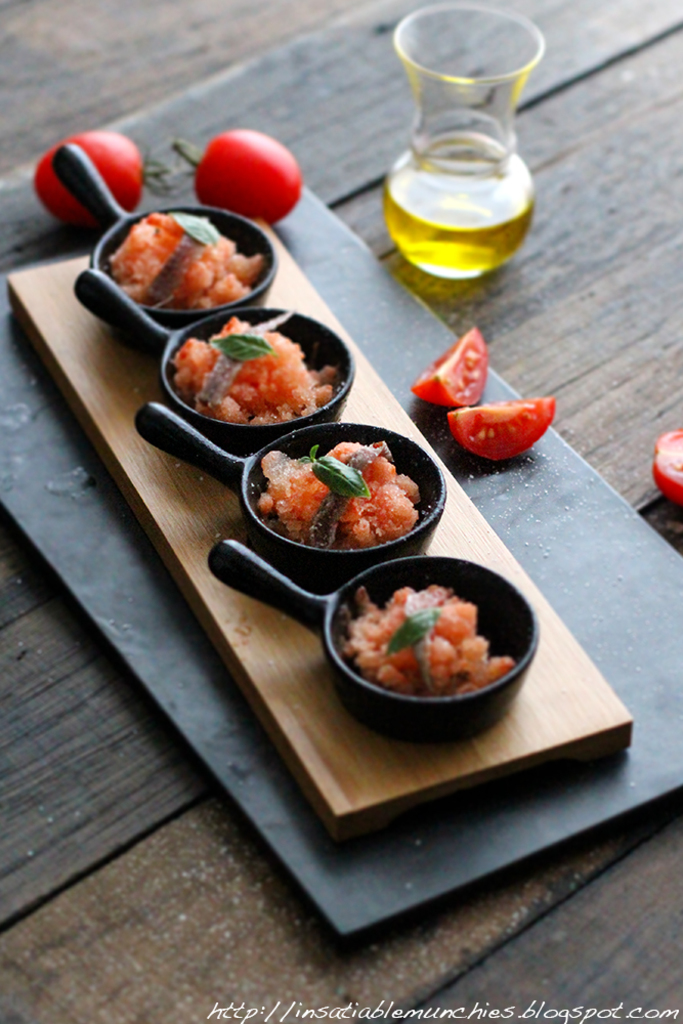Tomato: (177, 115, 317, 207), (33, 123, 145, 229), (450, 392, 561, 463), (411, 323, 486, 410), (651, 428, 681, 500)
